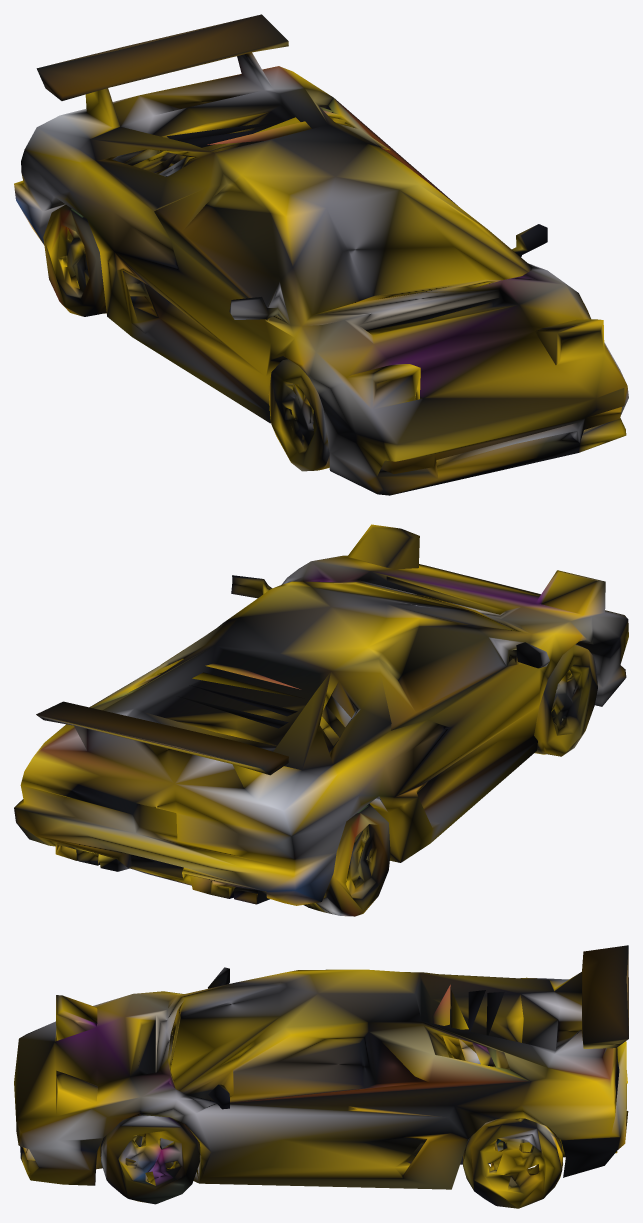
Rendered from car_diablo.glb.
The picture shows the model from 3 angles, top to bottom: view 1: azimuth 30°, elevation 25°; view 2: azimuth 150°, elevation 25°; view 3: azimuth 270°, elevation 25°; orthographic projection. The views are drawn at different scales.
Size of the model in its own units: 2.26 by 1.29 by 4.5.
